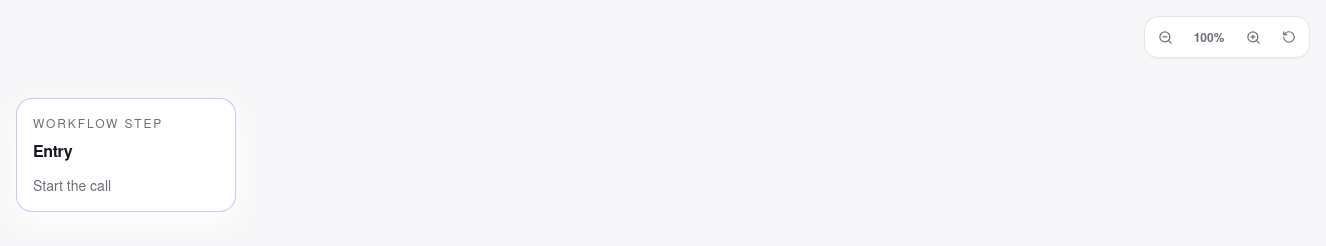
AgentFlowCanvas › supports zoom controls without changing the graph coordinate model
Check: the text with test id "flow-zoom-level" reads "100%", box left=1194, top=28, right=1224, bottom=46
Click the button named "Zoom in": (1253, 37) left=1237, top=21, right=1269, bottom=53
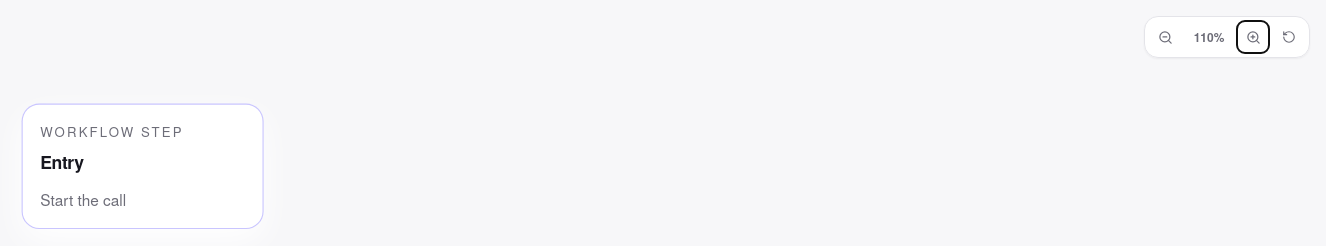
Check: the text with test id "flow-zoom-level" reads "110%", box left=1194, top=28, right=1224, bottom=46
Click the button named "Reset zoom": (1289, 37) left=1273, top=21, right=1305, bottom=53
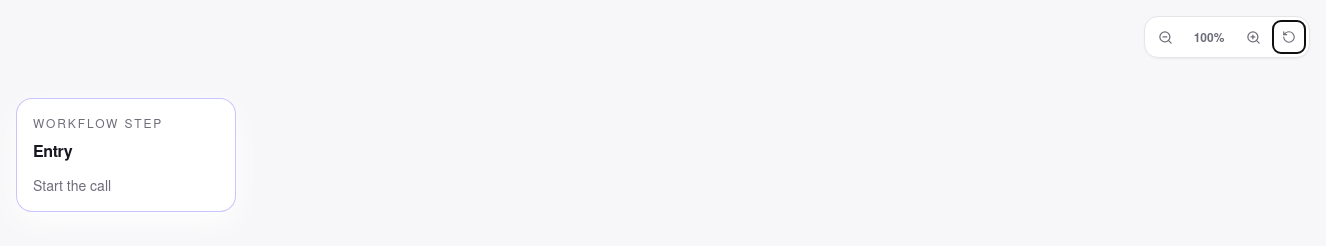
Check: the text with test id "flow-zoom-level" reads "100%", box left=1194, top=28, right=1224, bottom=46
